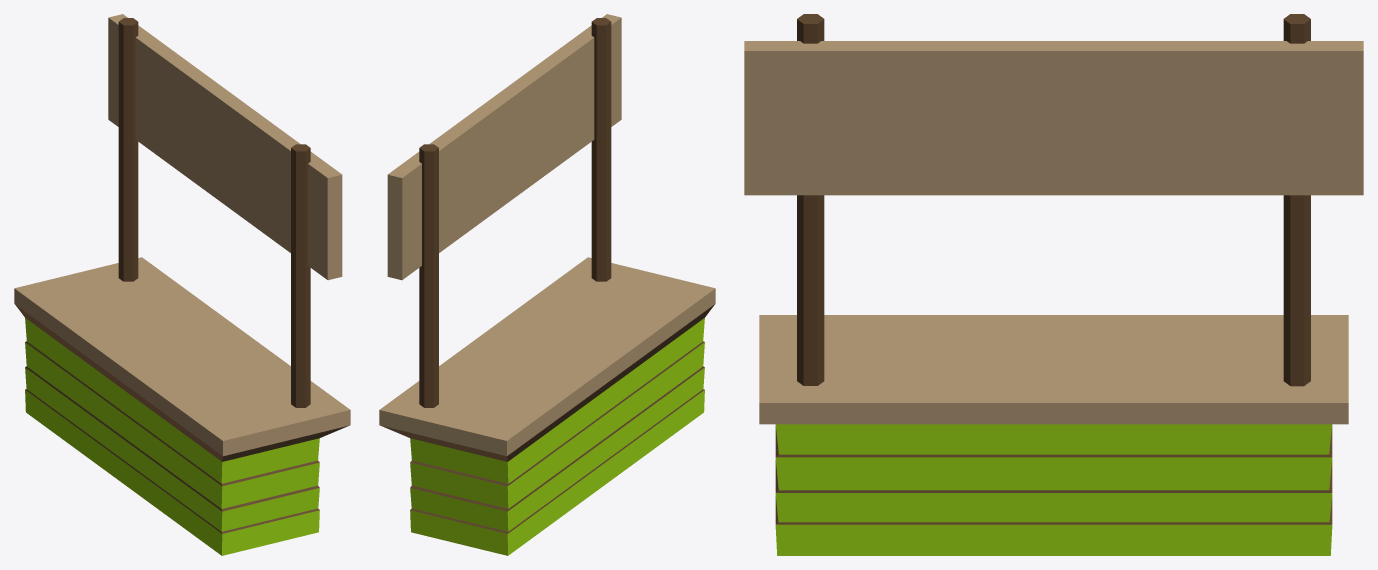
File: SM_Market_Stall.fbx
3 renders of one model, left to right at view 1: azimuth 30°, elevation 25°; view 2: azimuth 150°, elevation 25°; view 3: azimuth 270°, elevation 25°, orthographic. The views are drawn at different scales.
Parts seen in each view (by area): view 1: Market_Stall; view 2: Market_Stall; view 3: Market_Stall.
Boxes of the visible parts, x1,y1,x2,y2 form: Market_Stall: (14, 14, 350, 555); Market_Stall: (379, 14, 715, 555); Market_Stall: (744, 14, 1363, 555).
Bounding box in the file's own units: 95.07 × 269 × 283.
